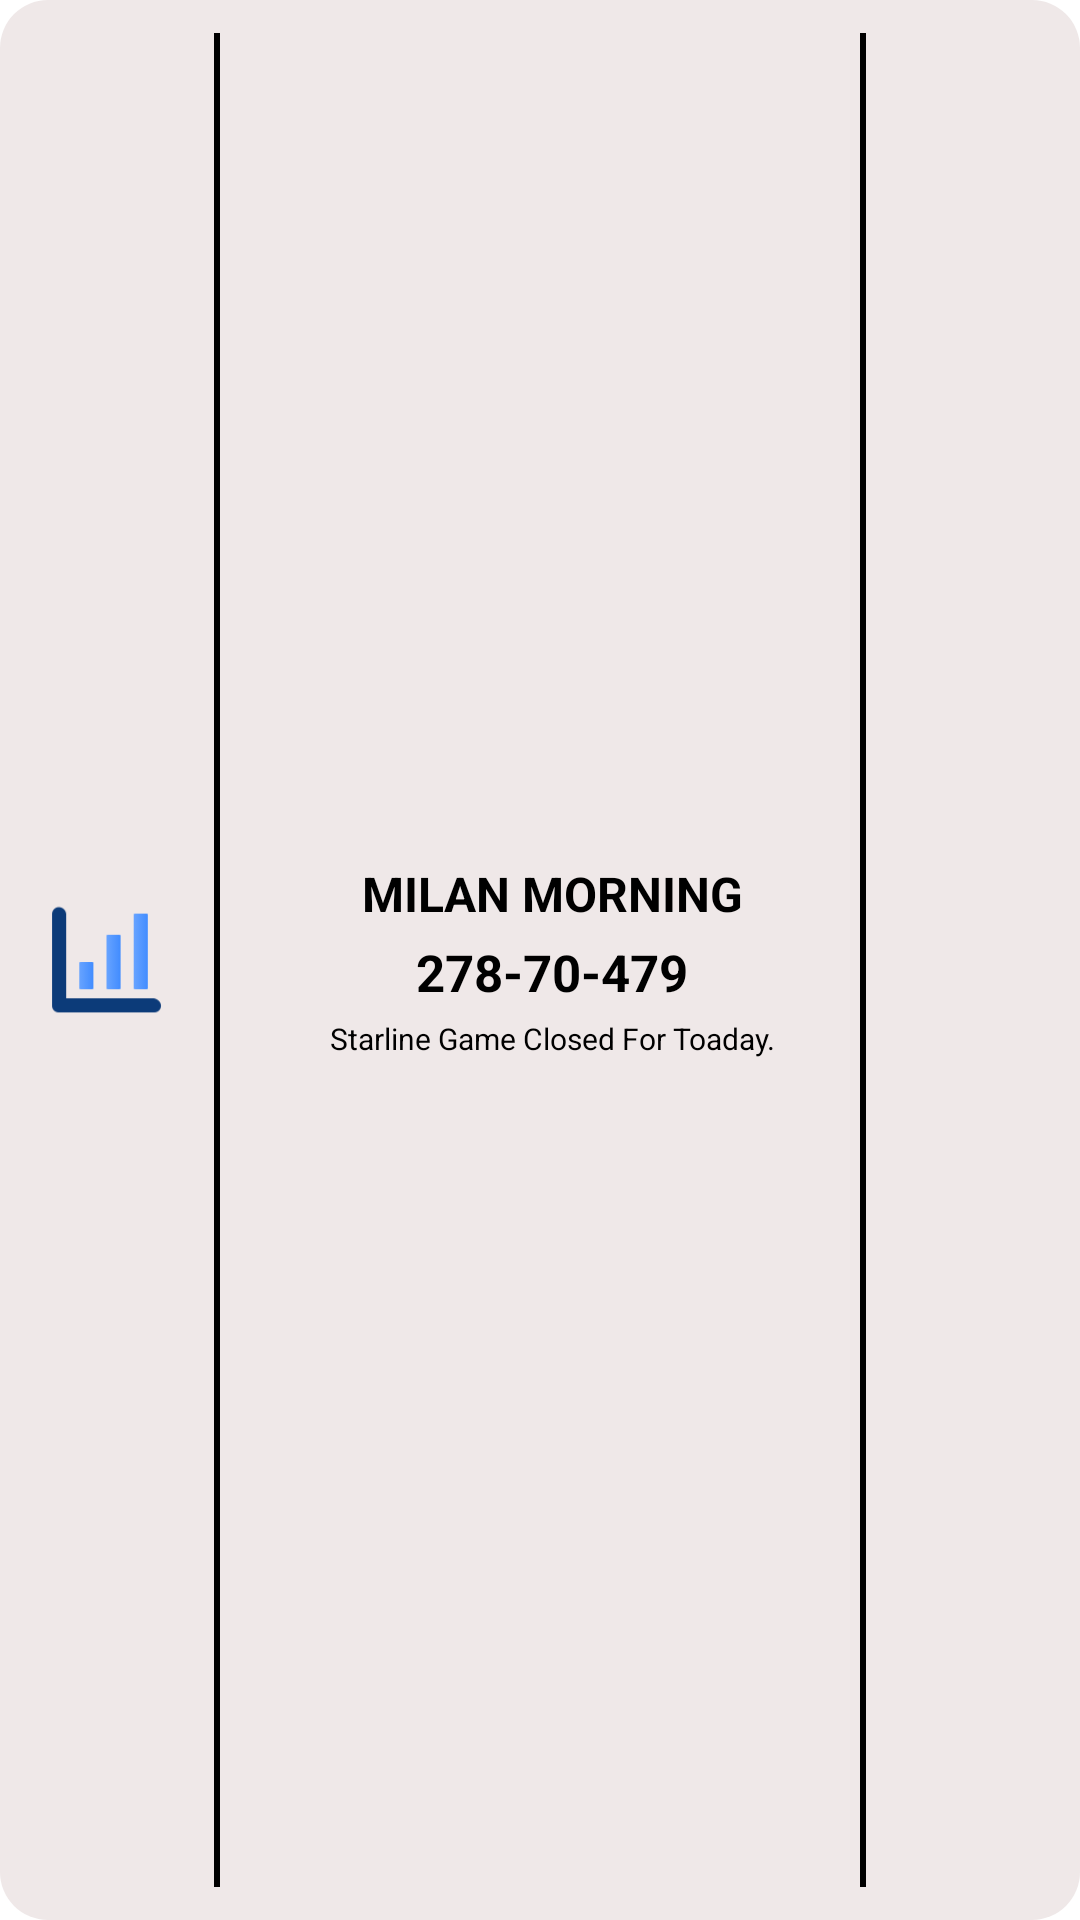

Screen size 1080x1920. Icon name, then its center in pixels as point (x, y):
chart: point (106, 959)
